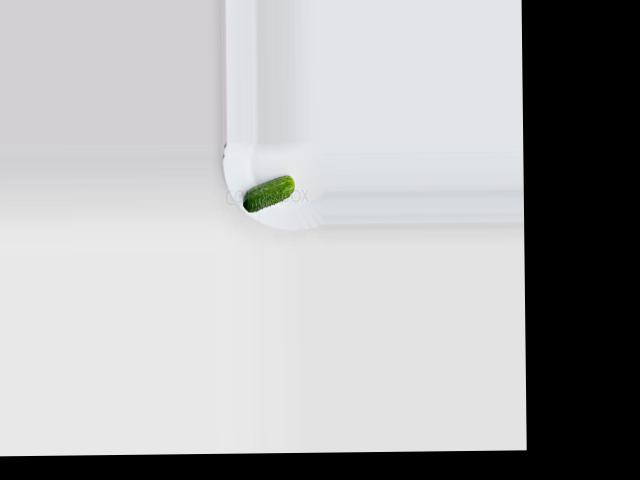cucumber: (243, 175, 294, 212)
